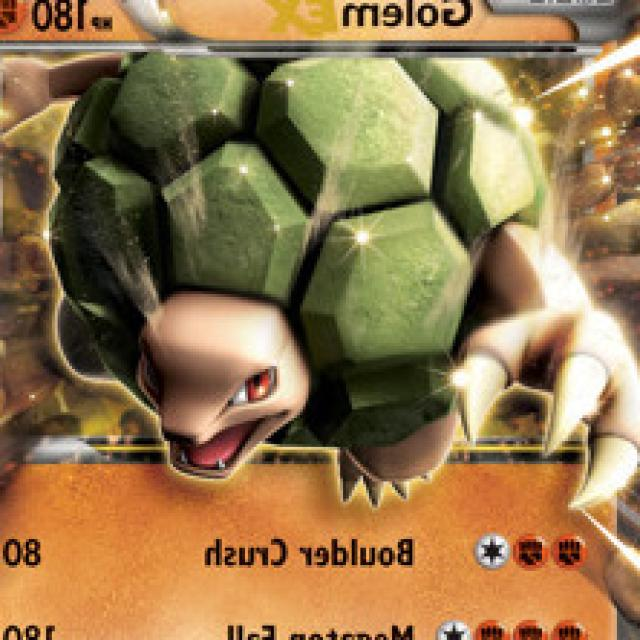Golem: (45, 50, 555, 491)
